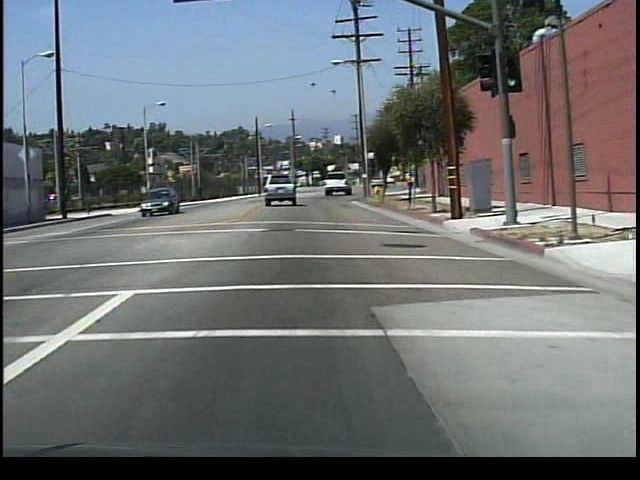person: (196, 183, 207, 204)
